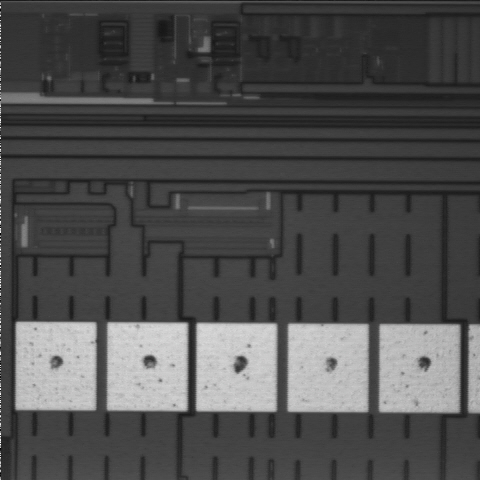pad: (16, 322, 96, 410), (107, 323, 187, 411), (288, 324, 368, 412), (197, 323, 276, 411), (380, 325, 458, 412)
